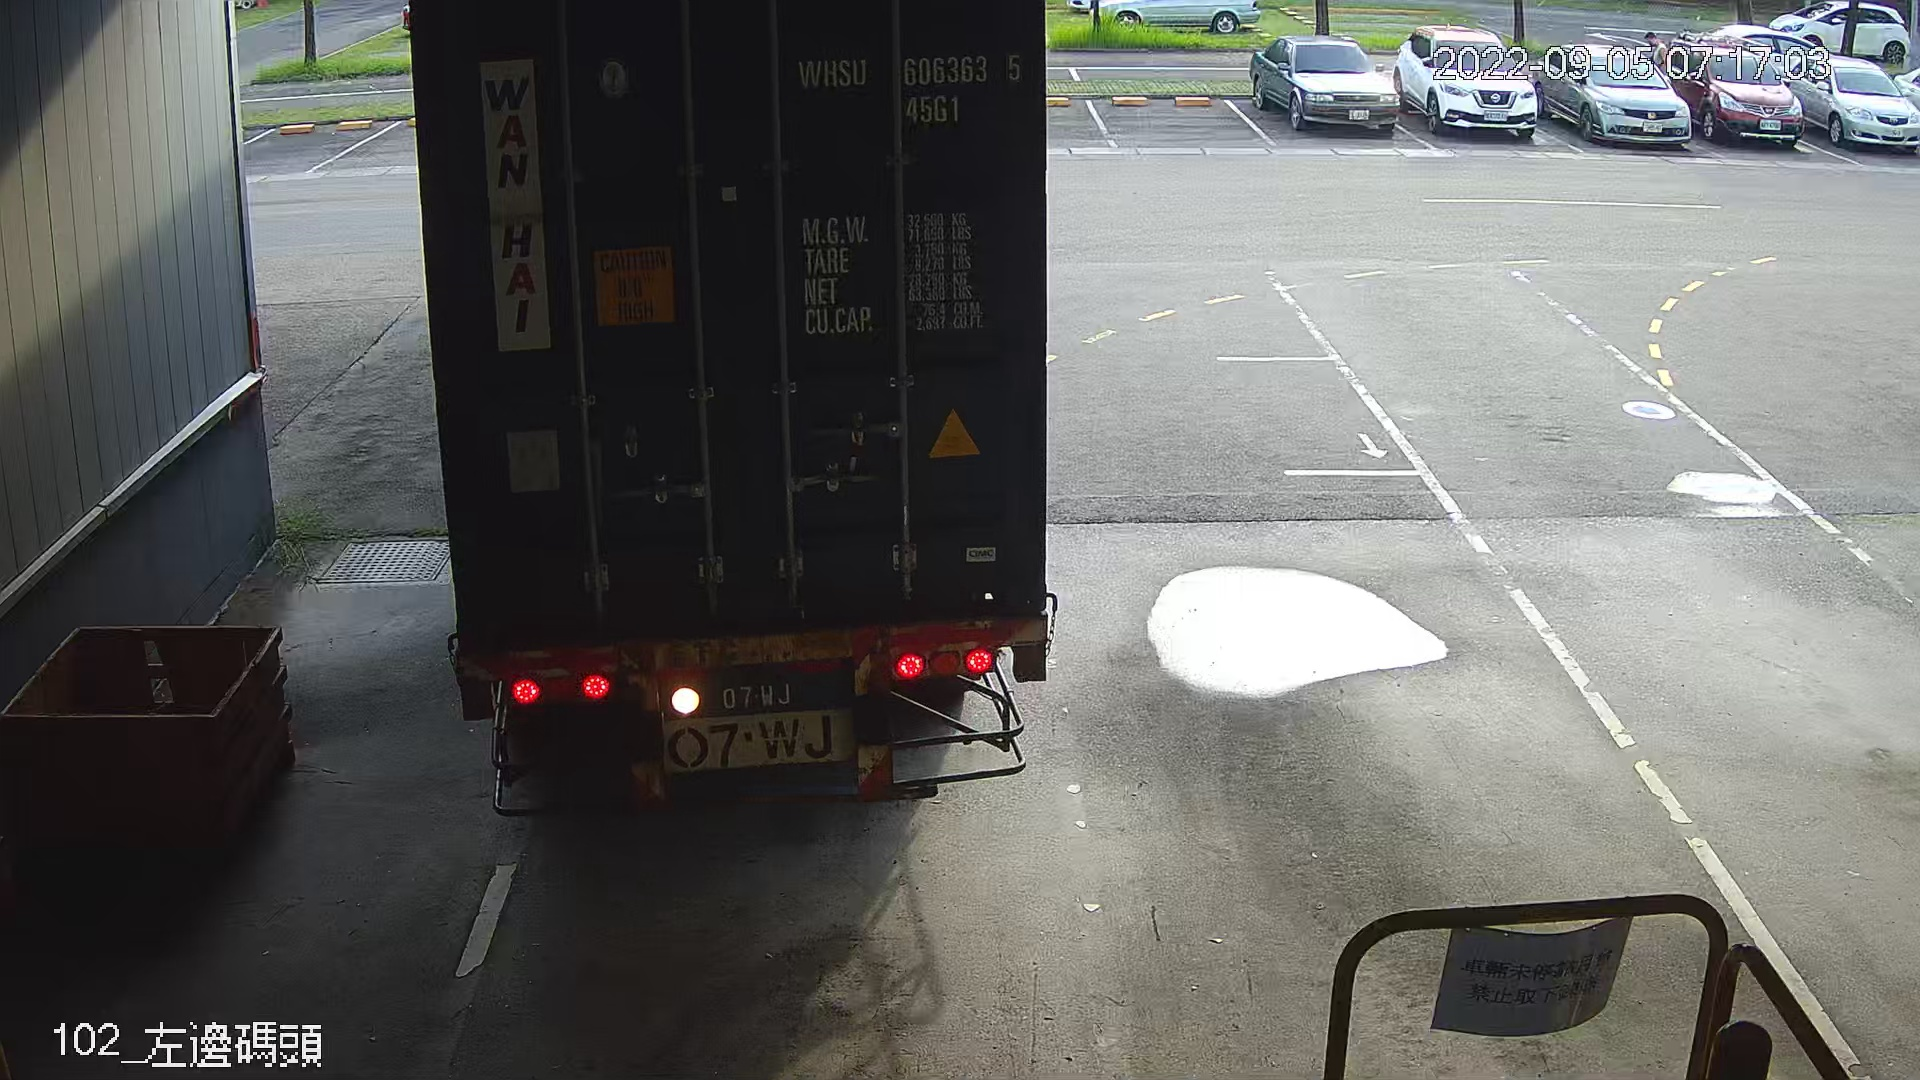container: (787, 42, 1033, 133)
